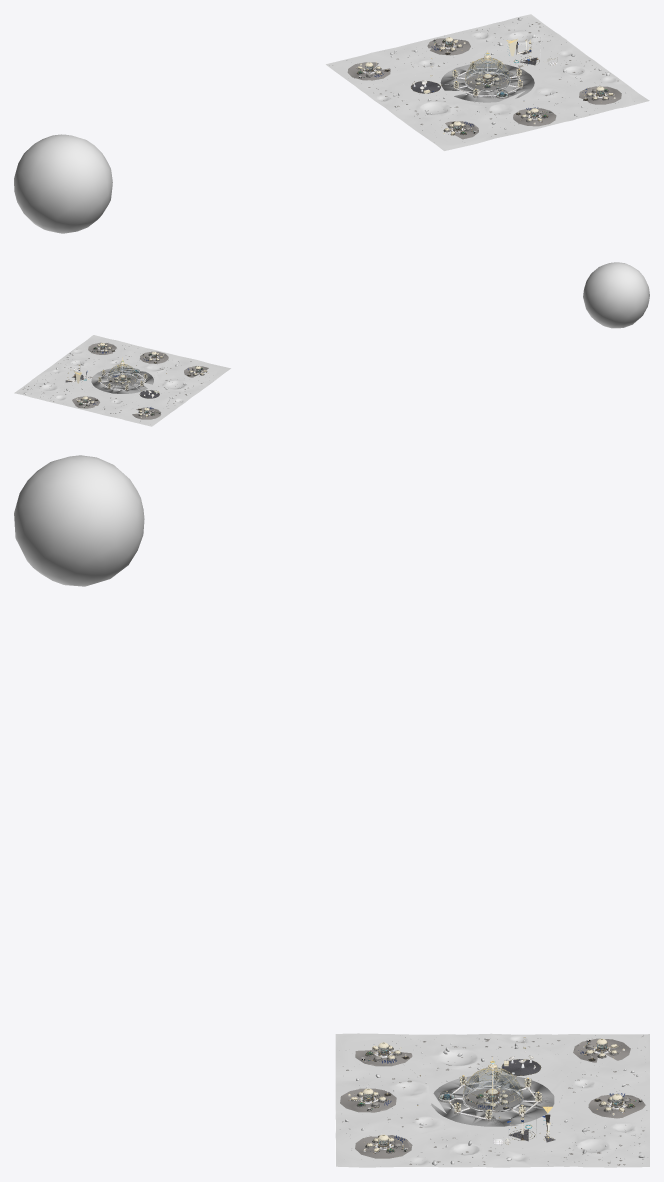
Rendered from project1_hunch_lunar_base.glb.
The picture shows the model from 3 angles, top to bottom: view 1: azimuth 30°, elevation 25°; view 2: azimuth 150°, elevation 25°; view 3: azimuth 270°, elevation 25°; orthographic projection. The views are drawn at different scales.
Parts seen in each view (by area): view 1: BAKED_TERRAIN, BAKED_EARTH, BAKED_SITE (×5), BAKED_KINGDOM_Ground, BAKED_DETAILS, BAKED_SPACEPORT, BAKED_ROCKS, BAKED_KINGDOM_Dome, BAKED_TELECOM; view 2: BAKED_TERRAIN, BAKED_EARTH, BAKED_KINGDOM_Ground, BAKED_DETAILS; view 3: BAKED_TERRAIN, BAKED_EARTH, BAKED_KINGDOM_Ground, BAKED_DETAILS.
Boxes of the visible parts, x1,y1,x2,y2 form: BAKED_TERRAIN: (326,14,649,150); BAKED_EARTH: (14,134,112,233); BAKED_SITE (×5): (347,38,621,126); BAKED_KINGDOM_Ground: (440,63,534,102); BAKED_DETAILS: (332,22,618,136); BAKED_SPACEPORT: (506,36,557,67); BAKED_ROCKS: (329,17,634,142); BAKED_KINGDOM_Dome: (465,57,509,87); BAKED_TELECOM: (411,58,440,93); BAKED_TERRAIN: (14,335,230,426); BAKED_EARTH: (583,262,649,328); BAKED_KINGDOM_Ground: (91,367,153,393); BAKED_DETAILS: (22,346,202,413); BAKED_TERRAIN: (335,1033,649,1167); BAKED_EARTH: (14,455,144,586); BAKED_KINGDOM_Ground: (431,1074,554,1126); BAKED_DETAILS: (340,1036,644,1165).
Bounding box in the file's own units: 5081 × 1359 × 2913.
Materials: 50 (44 with a texture image).
